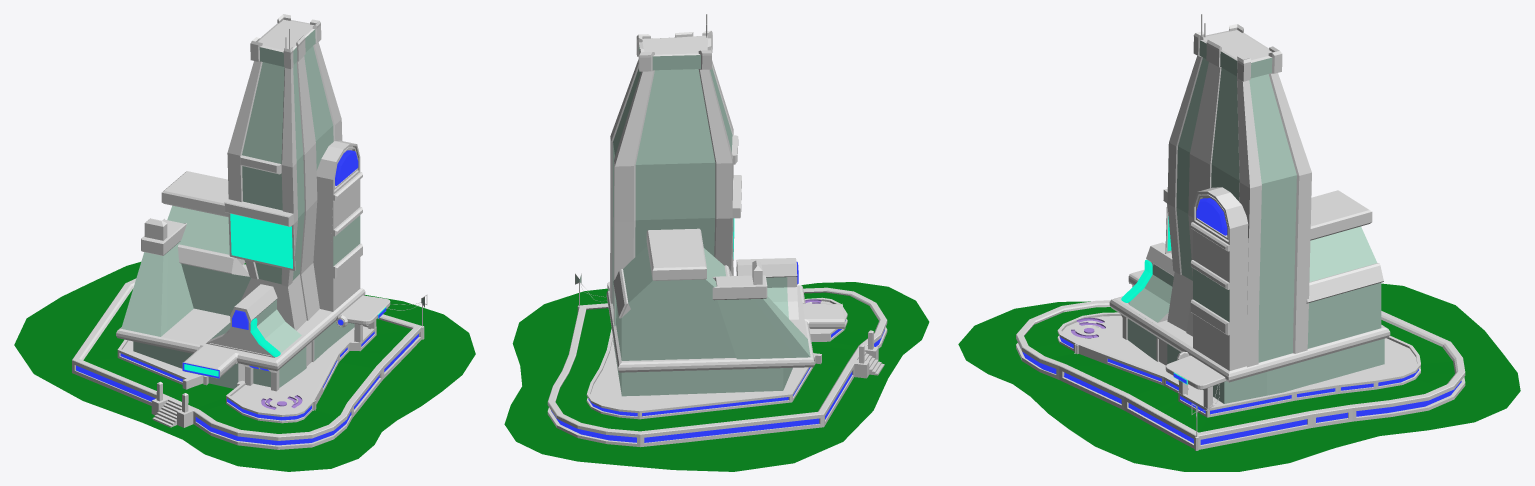
Rendered from Skyscraper.glb.
The picture shows the model from 3 angles, left to right: view 1: azimuth 30°, elevation 25°; view 2: azimuth 150°, elevation 25°; view 3: azimuth 270°, elevation 25°; orthographic projection. The views are drawn at different scales.
Visible parts, largest first — view 1: grass; view 2: grass; view 3: grass.
Part boxes in pixels (x1,y1,x2,y2): grass: (14,14,475,471); grass: (504,14,929,471); grass: (958,14,1520,471).
Size of the model in its own units: 3.03 by 2.67 by 3.71.
